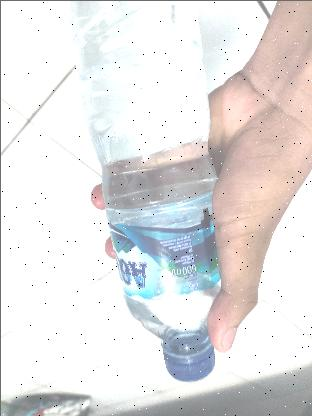Plastic Bottle: (64, 1, 221, 384)
